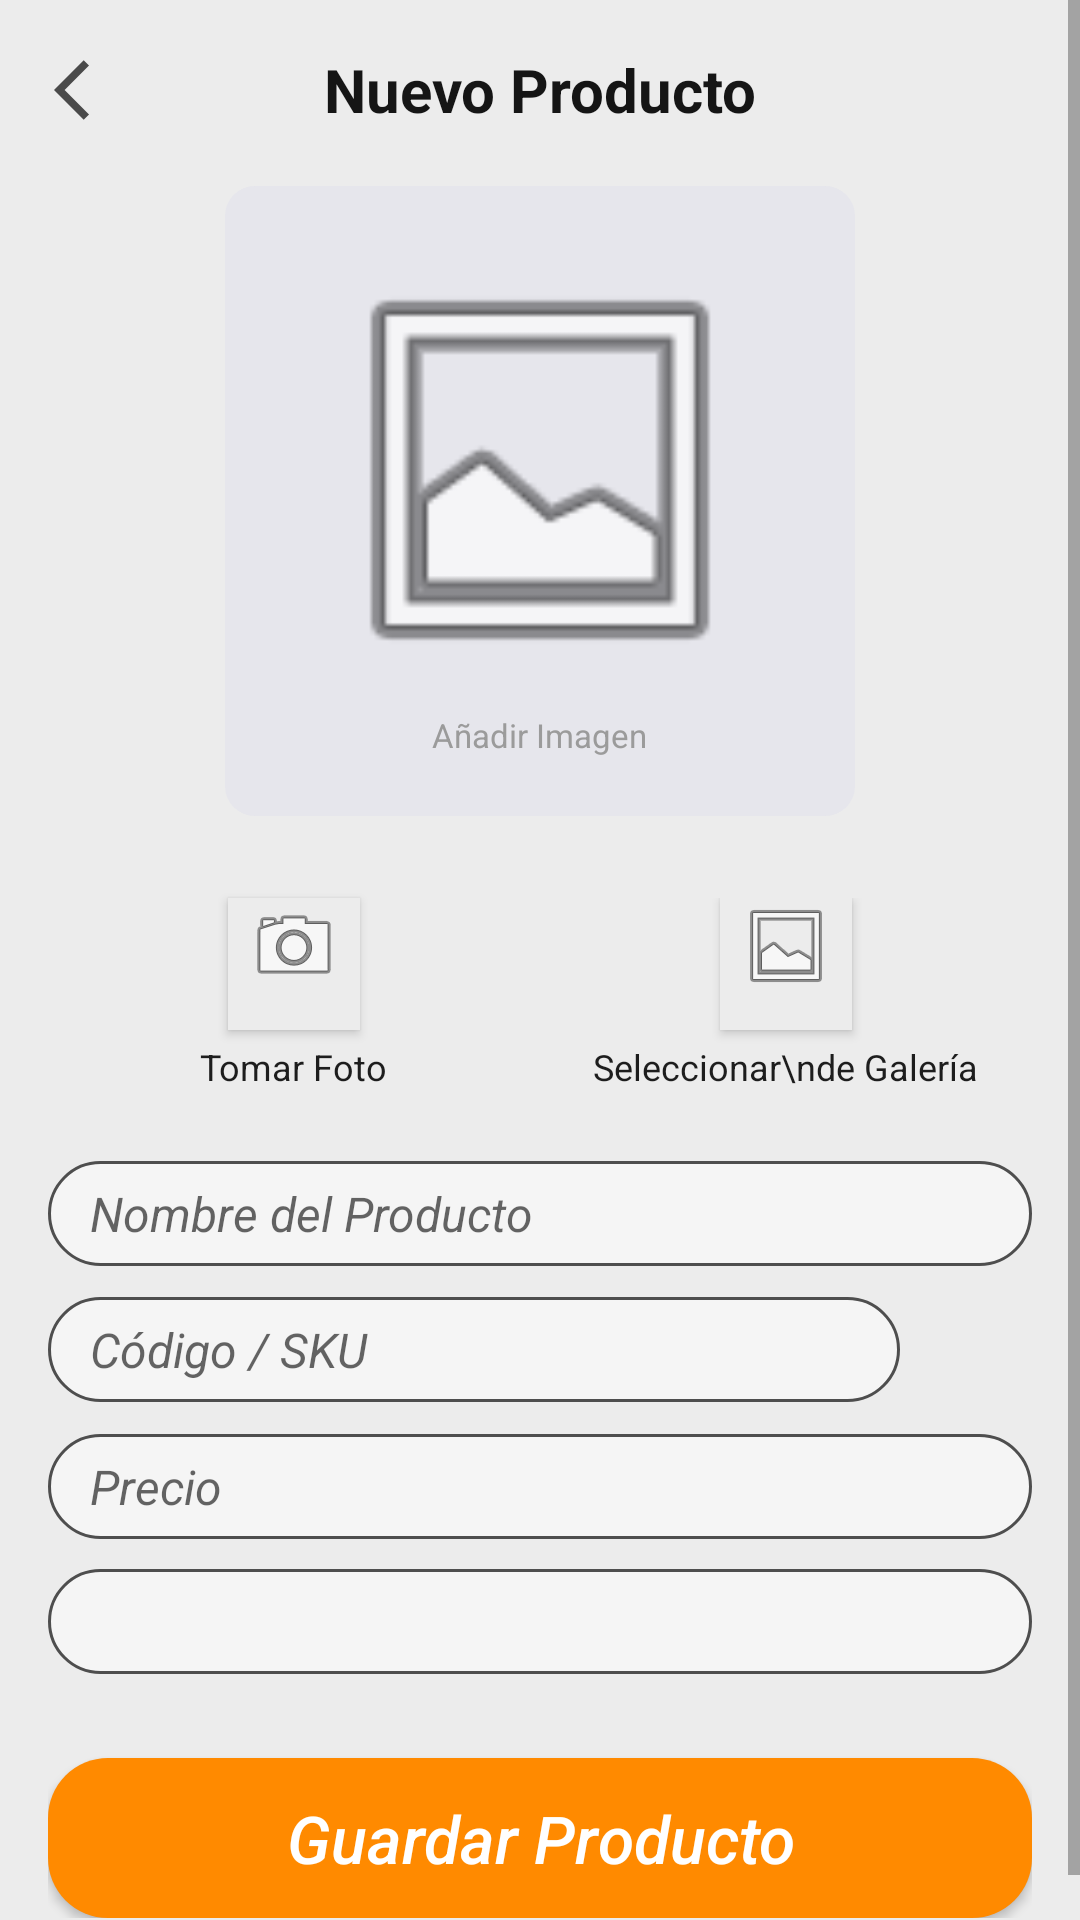

Icon click points for this 1080×1920 phone screenshot, format (x,y):
Volver: (71,90)
